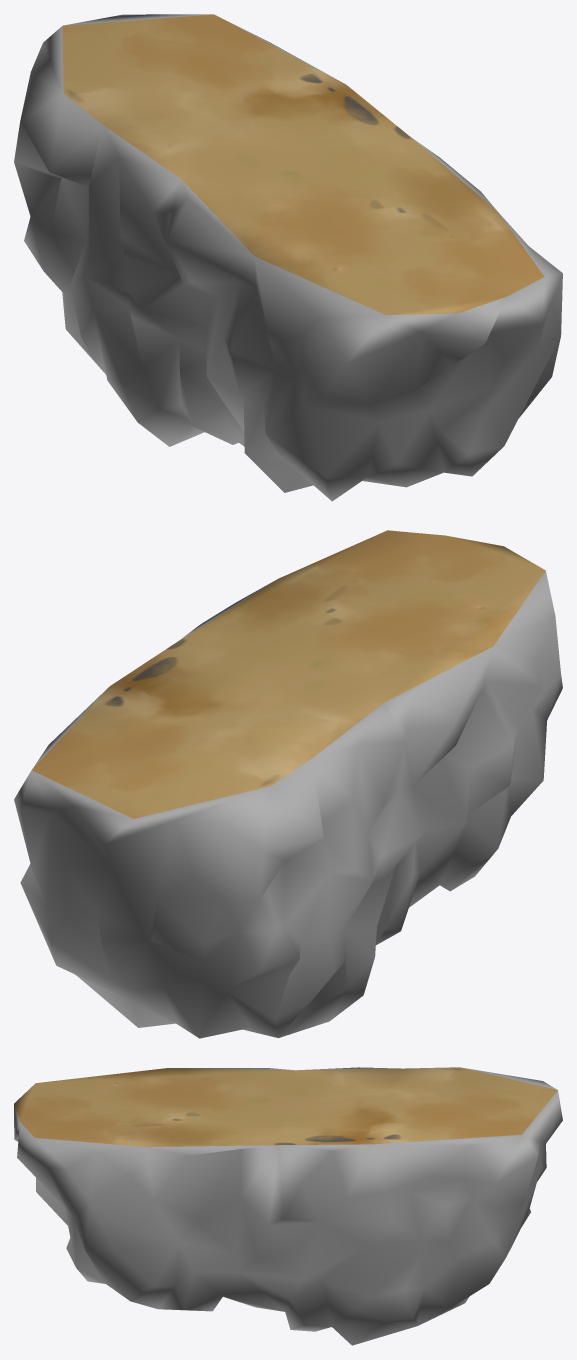
File: Landscape_01.fbx
3 views of the same model, one above another, from view 1: azimuth 30°, elevation 25°; view 2: azimuth 150°, elevation 25°; view 3: azimuth 270°, elevation 25° (orthographic). The views are drawn at different scales.
Parts seen in each view (by area): view 1: Landscape_01; view 2: Landscape_01; view 3: Landscape_01.
Part boxes in pixels (bbox=[...]): Landscape_01: bbox=[14, 14, 562, 501]; Landscape_01: bbox=[14, 530, 562, 1038]; Landscape_01: bbox=[14, 1067, 562, 1345].
Bounding box in the file's own units: 754 × 771 × 1774.
